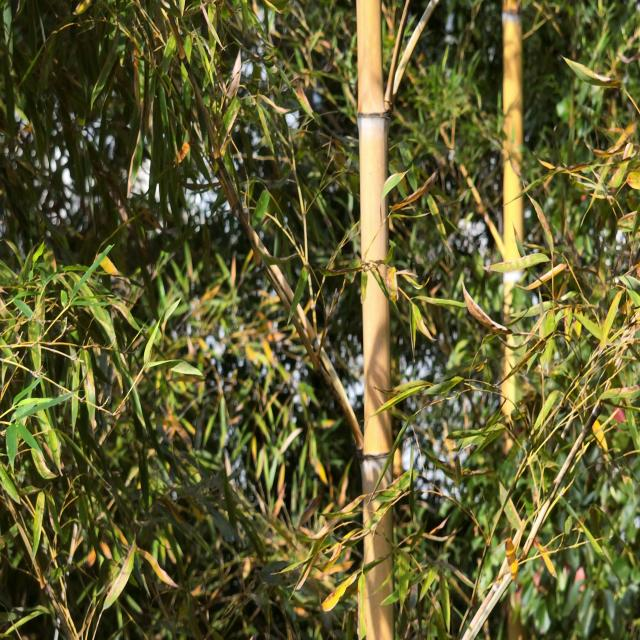Bamboo-shoots: (357, 0, 396, 640)
